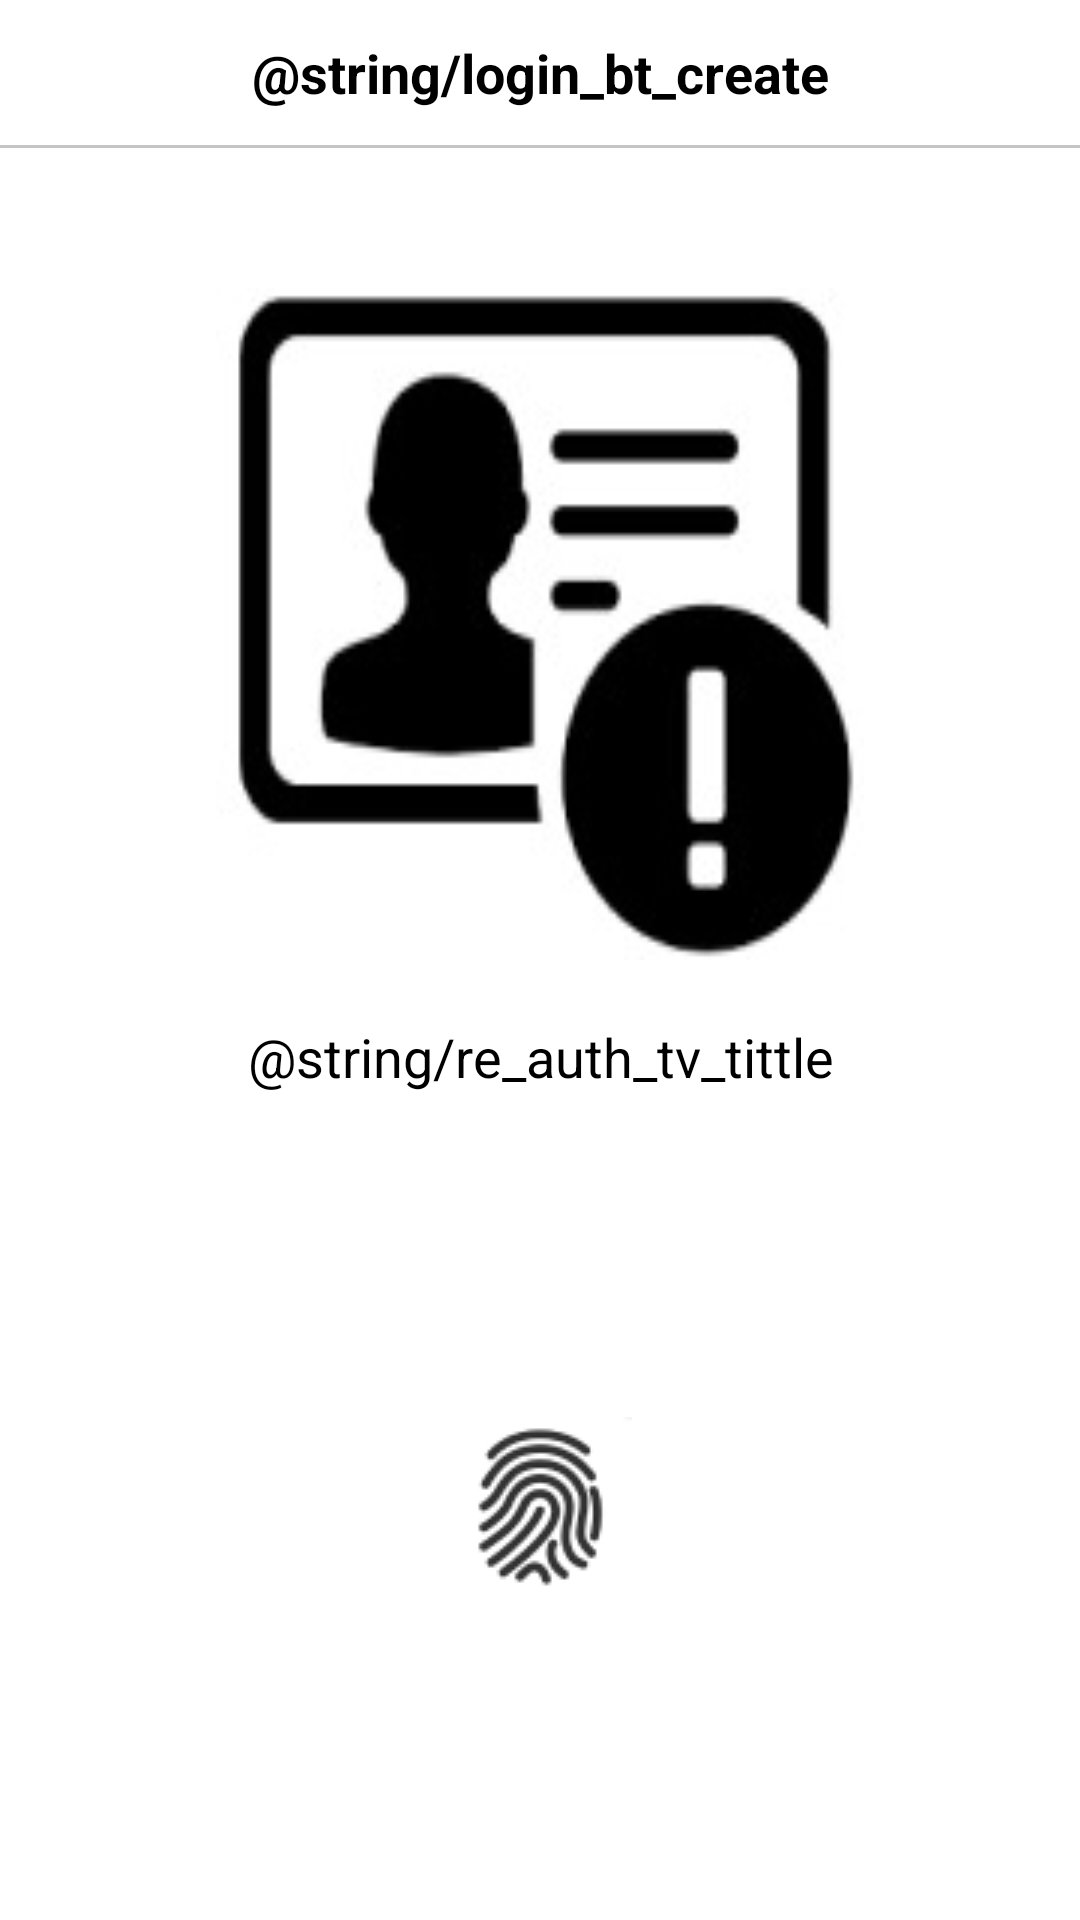

Icon bounding boxes for this 1080×1920 phone screenshot, format (x1, y1, x2, y2):
finger print: (478, 1428, 603, 1586)
